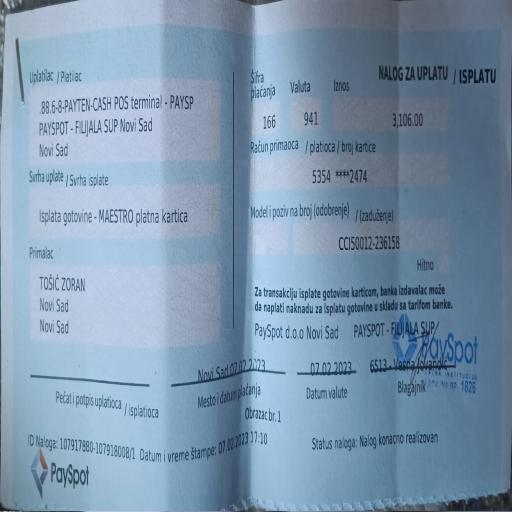svrha_uplate: (27, 168, 224, 246)
uplatnica: (249, 58, 503, 258)
